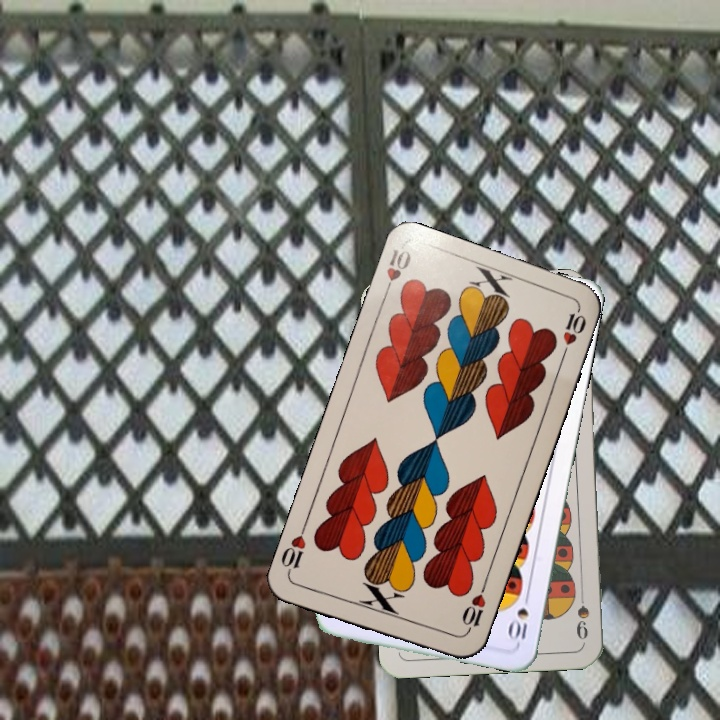H10: (378, 245, 414, 301), (457, 580, 489, 637)
S10: (506, 588, 533, 646)
S9: (572, 598, 592, 643)
